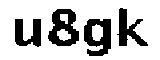8: (48, 6, 80, 50)
g: (83, 15, 115, 59)
k: (115, 3, 150, 50)
u: (12, 17, 43, 49)
